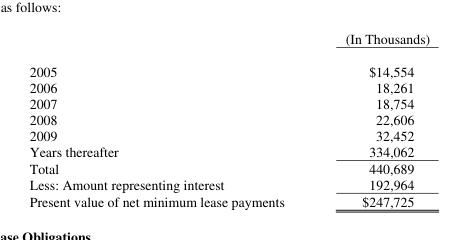table: (28, 28, 429, 209)
table column: (28, 28, 314, 209), (314, 28, 429, 209)
table column header: (28, 28, 429, 54)
table row: (28, 28, 429, 54), (28, 54, 429, 78), (28, 191, 429, 209), (28, 142, 429, 159), (28, 78, 429, 94), (28, 94, 429, 110), (28, 110, 429, 126), (28, 126, 429, 142), (28, 159, 429, 175), (28, 175, 429, 191)
